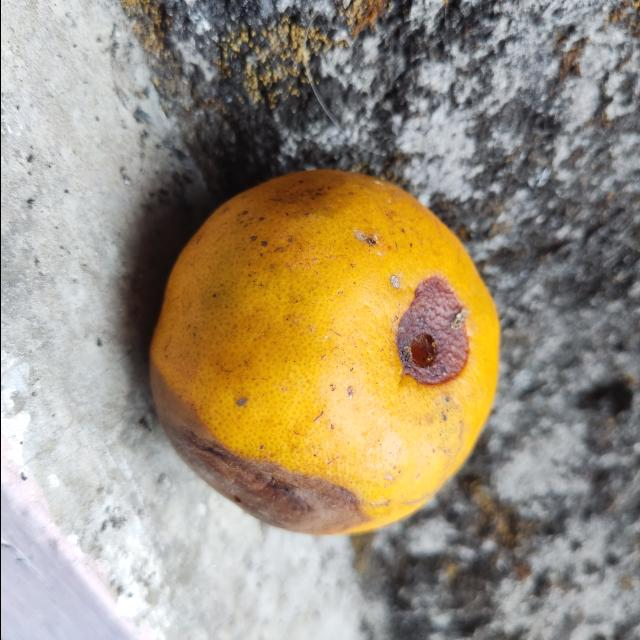orange: (143, 169, 502, 536)
